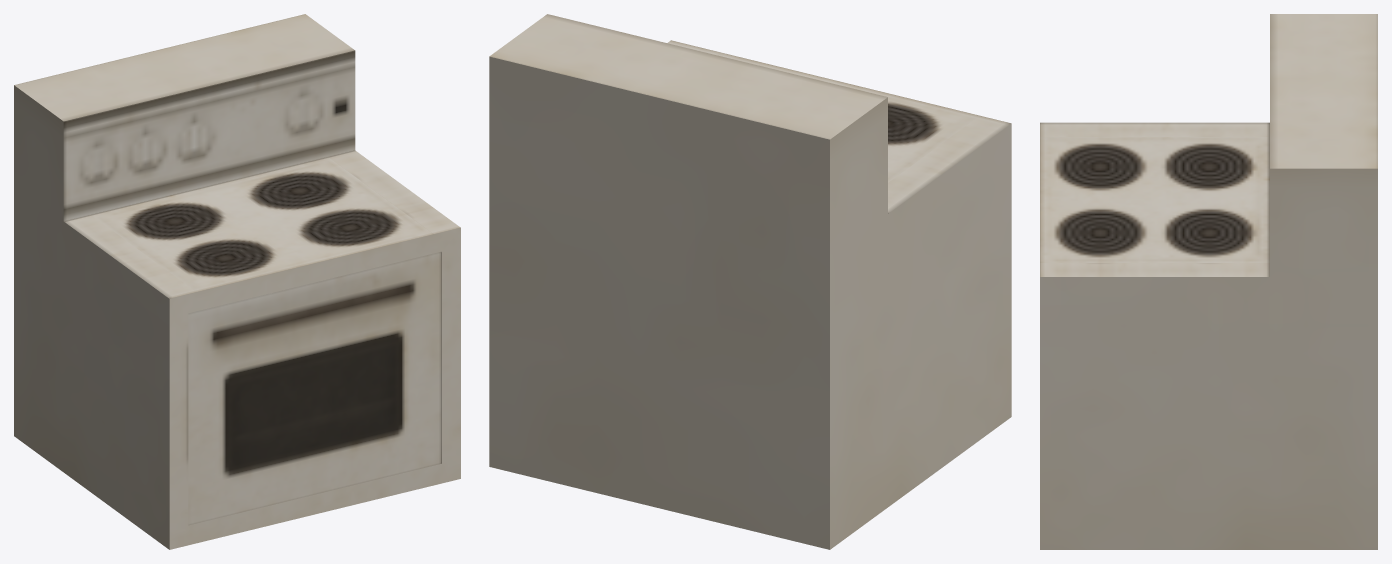
Rendered from Stove.fbx.
3 renders of one model, left to right at view 1: azimuth 30°, elevation 25°; view 2: azimuth 150°, elevation 25°; view 3: azimuth 270°, elevation 25°, orthographic. The views are drawn at different scales.
Parts seen in each view (by area): view 1: Stove, StoveDoor; view 2: Stove; view 3: Stove.
Boxes of the visible parts, x1,y1,x2,y2 form: Stove: [14, 14, 460, 549]; StoveDoor: [188, 251, 441, 525]; Stove: [489, 14, 1011, 549]; Stove: [1040, 14, 1377, 549].
Bounding box in the file's own units: 248 × 229 × 285.
